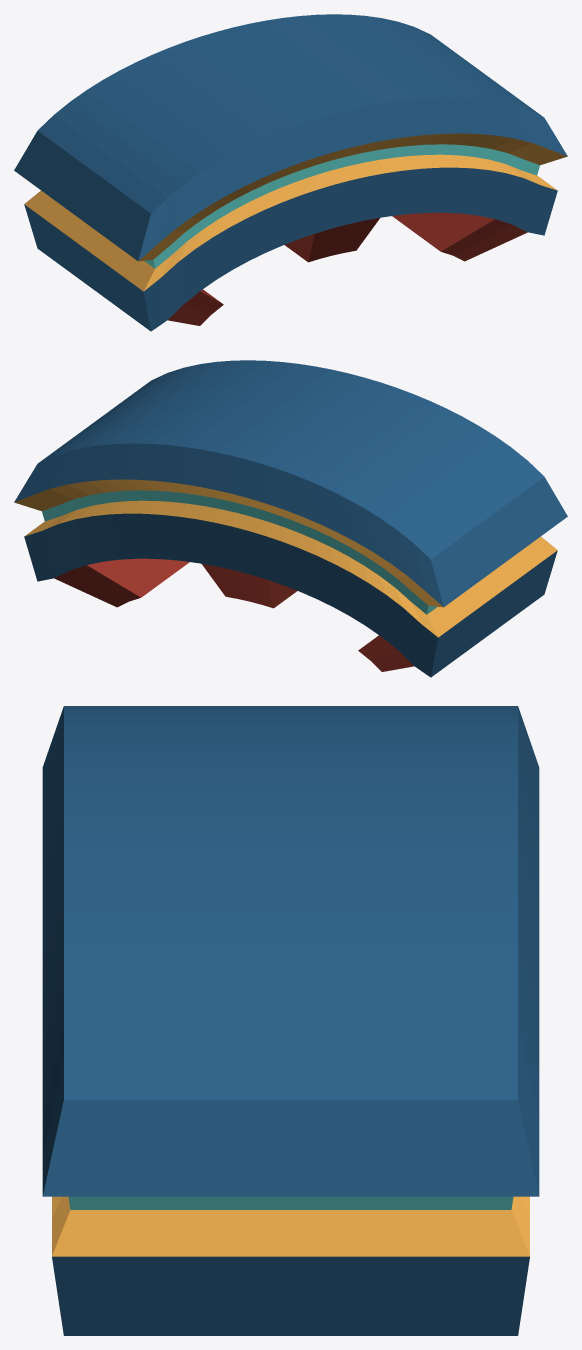
The picture shows the model from 3 angles, top to bottom: view 1: azimuth 30°, elevation 25°; view 2: azimuth 150°, elevation 25°; view 3: azimuth 270°, elevation 25°; orthographic projection. The views are drawn at different scales.
Visible parts, largest first — view 1: Paddle; view 2: Paddle; view 3: Paddle.
Boxes of the visible parts, x1,y1,x2,y2 form: Paddle: [14, 14, 567, 331]; Paddle: [14, 360, 567, 677]; Paddle: [42, 706, 539, 1335].
Bounding box in the file's own units: 4.37 × 1.89 × 2.19.
